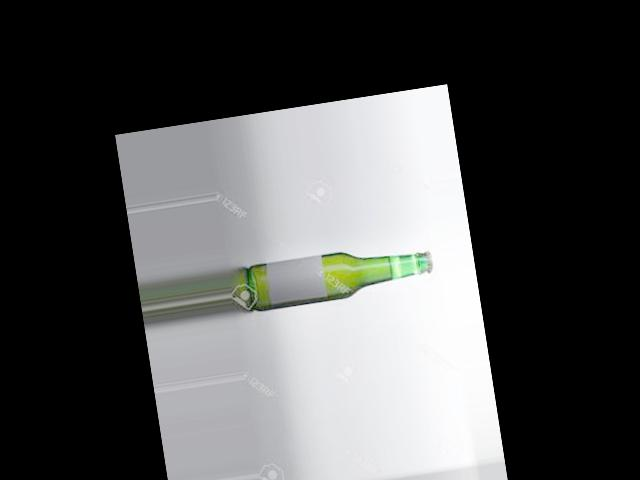beer: (245, 238, 435, 313)
